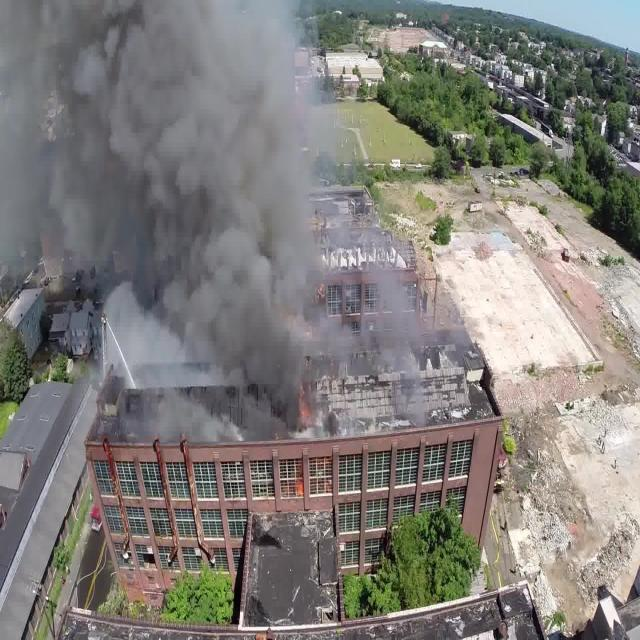Smoke: (3, 4, 385, 388)
